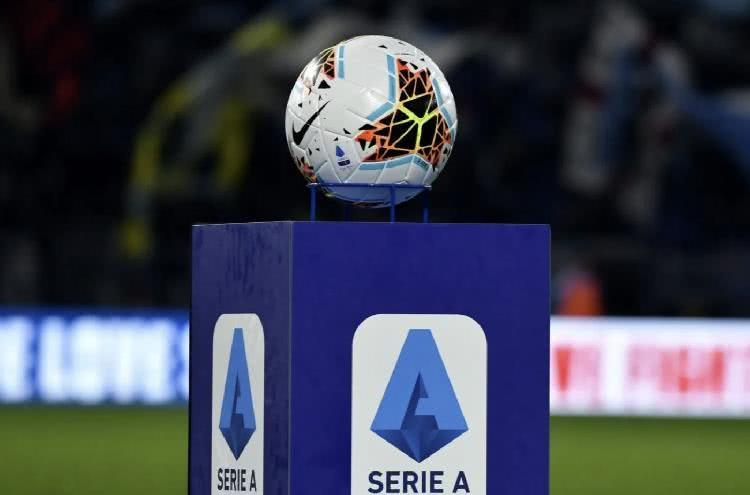ball: (283, 33, 459, 207)
